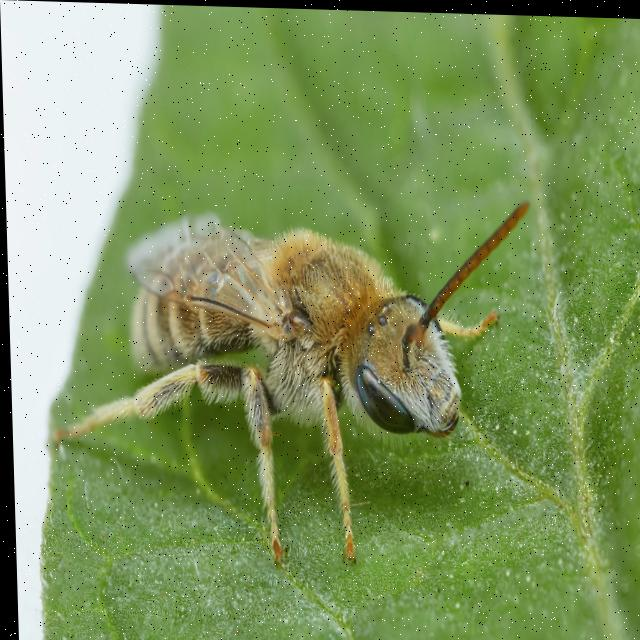Braunsapis: (63, 197, 537, 559)
